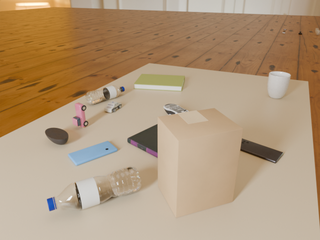book: (127, 124, 158, 158), (134, 74, 185, 91)
bottle: (47, 166, 141, 211), (85, 86, 125, 105)
box: (158, 108, 243, 218)
cup: (267, 72, 291, 99)
mouse: (45, 128, 68, 145), (164, 104, 188, 115)
phone: (68, 141, 117, 165), (240, 139, 283, 163)
toy_car: (72, 103, 88, 128), (104, 101, 122, 112)
